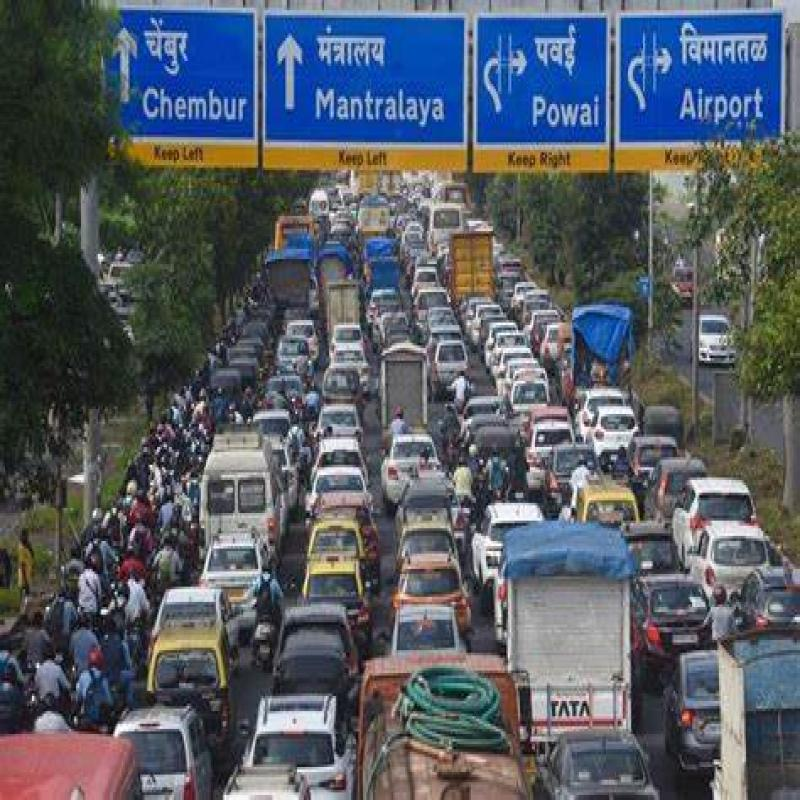car: (250, 693, 354, 800), (106, 694, 205, 800), (669, 468, 759, 583), (151, 630, 237, 747), (209, 525, 286, 632), (163, 582, 243, 684), (694, 514, 772, 618), (400, 592, 476, 692), (282, 613, 355, 713), (370, 420, 440, 499), (398, 522, 481, 588), (468, 495, 540, 571), (401, 556, 465, 628), (301, 561, 358, 632), (589, 403, 641, 475), (628, 432, 683, 491)
